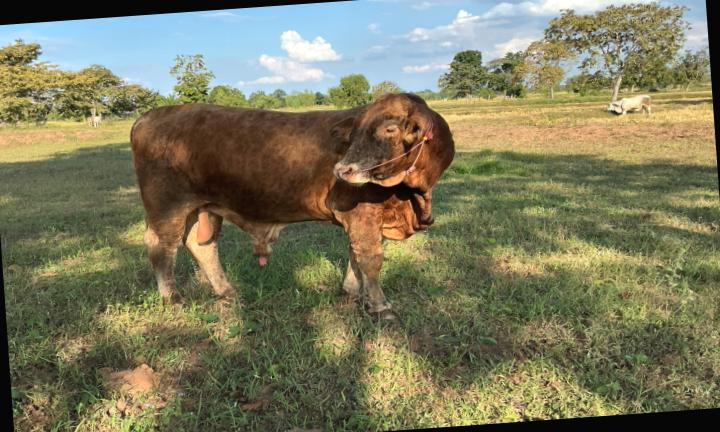Charolais: (131, 93, 454, 317)
